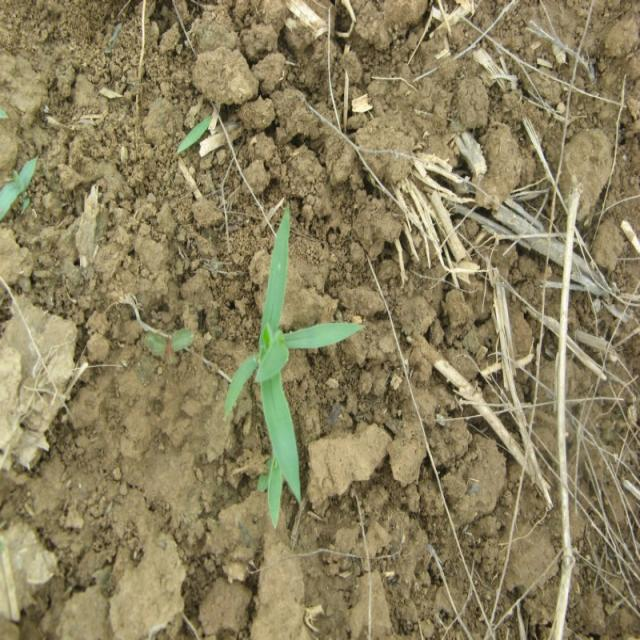bg: (226, 212, 362, 524)
